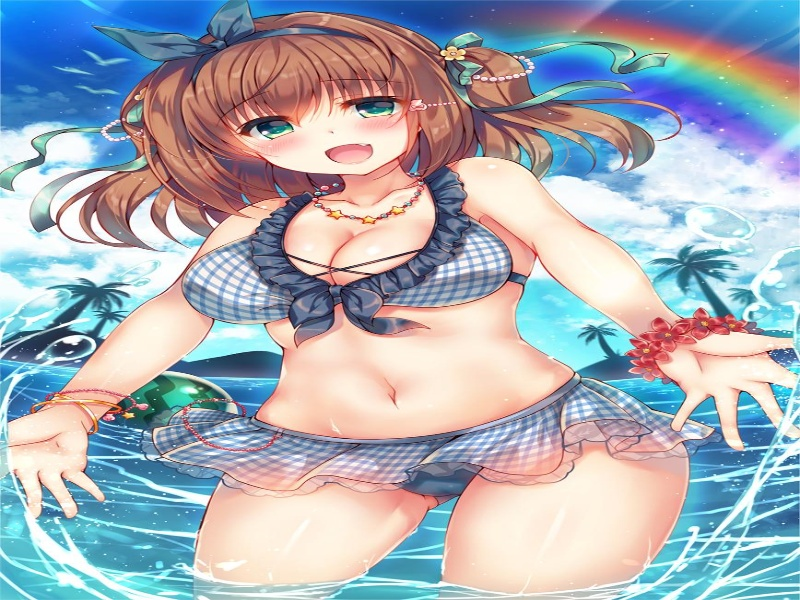person: (204, 58, 445, 199)
